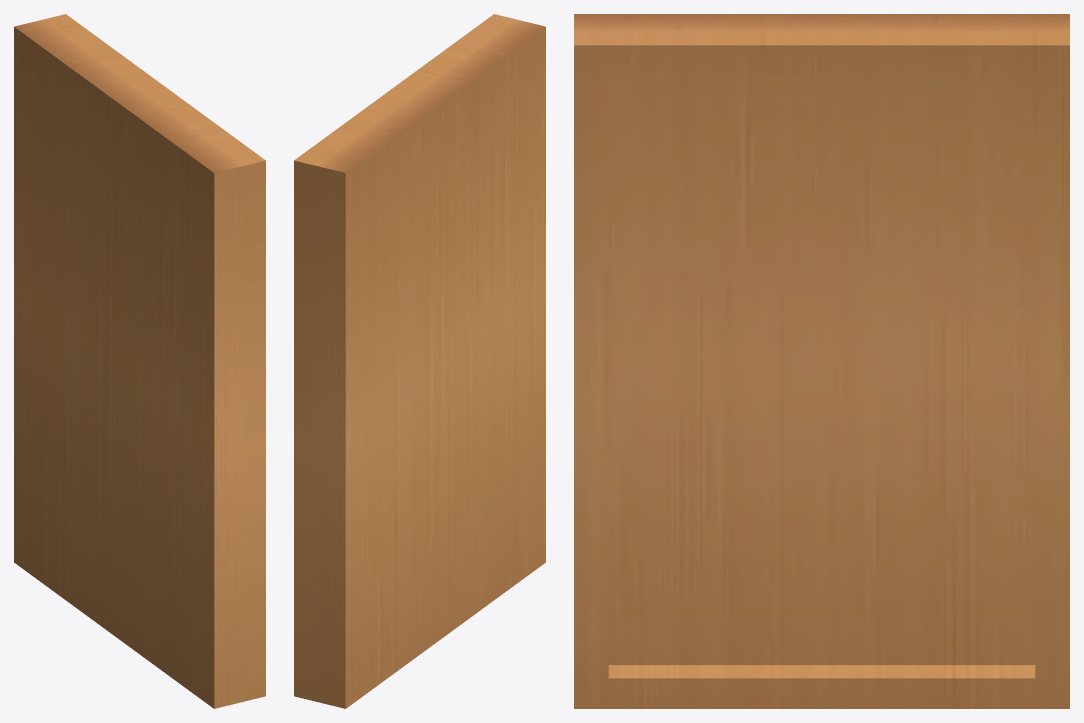
File: Poster Frame.fbx
The picture shows the model from 3 angles, left to right: view 1: azimuth 30°, elevation 25°; view 2: azimuth 150°, elevation 25°; view 3: azimuth 270°, elevation 25°; orthographic projection. The views are drawn at different scales.
Visible parts, largest first — view 1: Cube; view 2: Cube; view 3: Cube.
Part boxes in pixels (left/top/right/bottom): Cube: left=14, top=14, right=265, bottom=708; Cube: left=294, top=14, right=545, bottom=708; Cube: left=574, top=14, right=1069, bottom=708.
Bounding box in the file's own units: 115 × 1141 × 772.
Materials: 1 (1 with a texture image).
